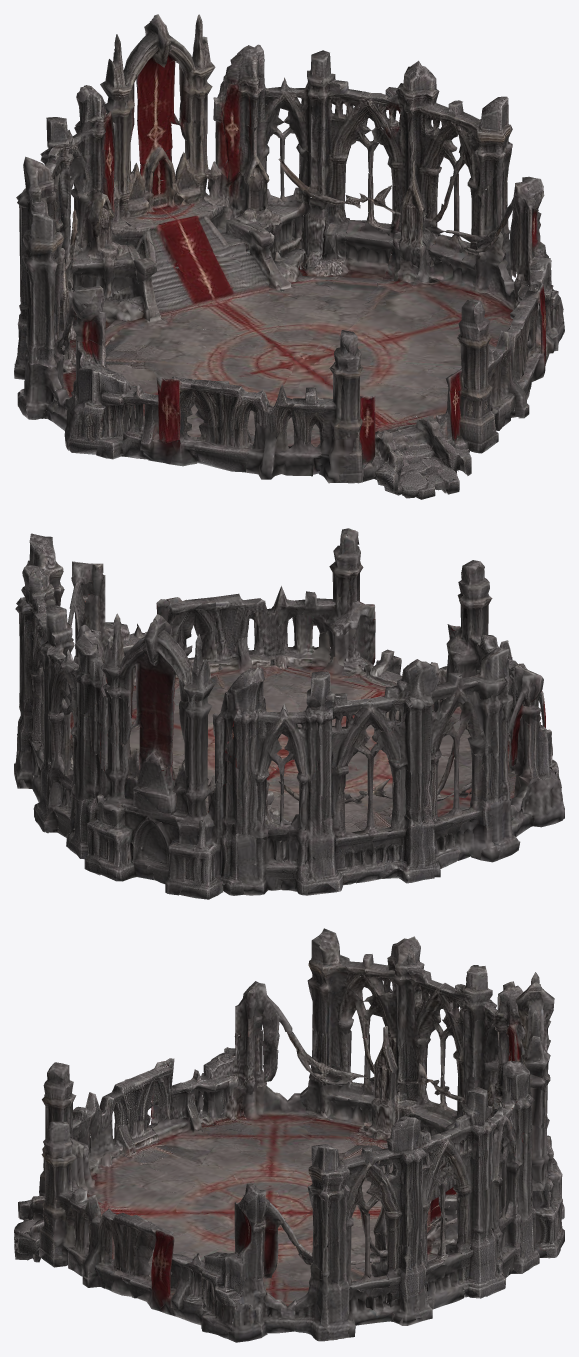
The model's file is demonica_throne_mobile.glb.
The picture shows the model from 3 angles, top to bottom: view 1: azimuth 30°, elevation 25°; view 2: azimuth 150°, elevation 25°; view 3: azimuth 270°, elevation 25°; orthographic projection. The views are drawn at different scales.
Visible parts, largest first — view 1: Mesh_0; view 2: Mesh_0; view 3: Mesh_0.
Boxes of the visible parts, left/top/right/bottom form: Mesh_0: left=14, top=14, right=564, bottom=499; Mesh_0: left=14, top=528, right=564, bottom=899; Mesh_0: left=14, top=928, right=564, bottom=1342.
Bounding box in the file's own units: 1.86 × 1.02 × 1.9.
Materials: 1 (1 with a texture image).
